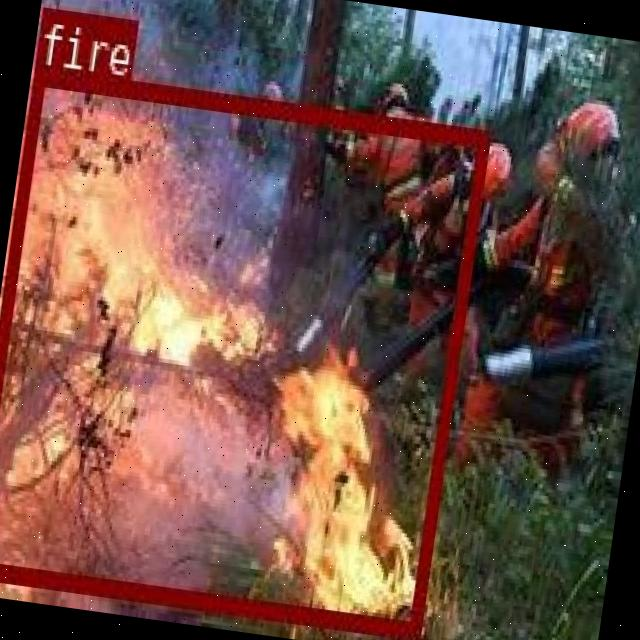fire: (0, 65, 488, 635)
